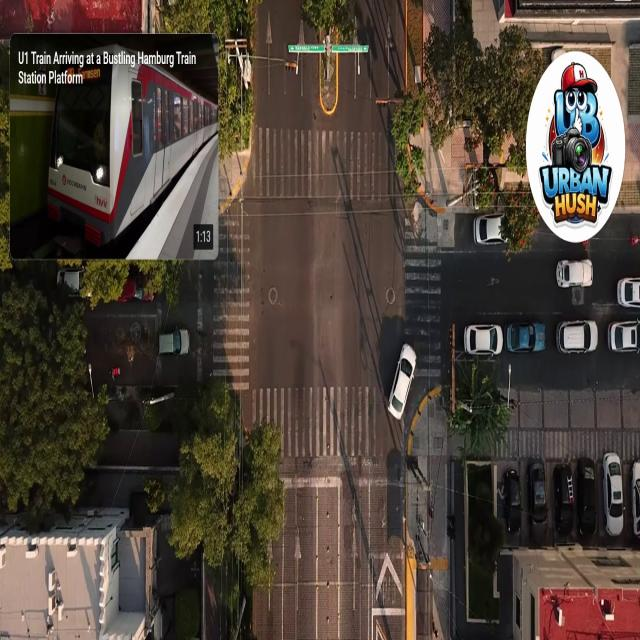car: (388, 344, 417, 420), (602, 453, 623, 536), (577, 457, 596, 535), (554, 464, 574, 535), (557, 320, 597, 353), (528, 460, 547, 526), (506, 323, 546, 353), (464, 325, 503, 355), (503, 470, 521, 532), (608, 320, 639, 352), (557, 260, 592, 287), (474, 215, 505, 244), (118, 277, 153, 302), (158, 329, 190, 355), (57, 269, 83, 295), (617, 279, 639, 307), (631, 462, 639, 536)
